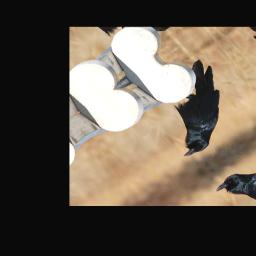Crow: (133, 56, 256, 161)
